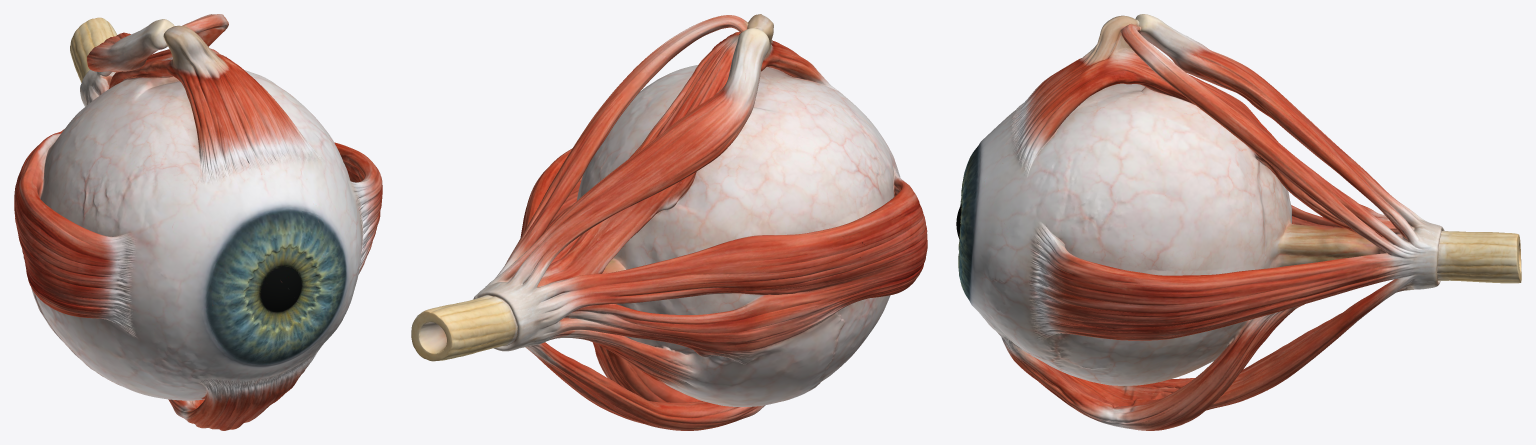
Rendered from human-eye.glb.
3 views of the same model, side by side, from view 1: azimuth 30°, elevation 25°; view 2: azimuth 150°, elevation 25°; view 3: azimuth 270°, elevation 25° (orthographic). The views are drawn at different scales.
Parts seen in each view (by area): view 1: human-eye; view 2: human-eye; view 3: human-eye.
Boxes of the visible parts, box(x1,y1,x2,y2) form: human-eye: box(14, 14, 382, 430); human-eye: box(411, 14, 927, 430); human-eye: box(956, 14, 1521, 430).
Bounding box in the file's own units: 0.0306 × 0.0342 × 0.045.
1 material, 1 textured.
